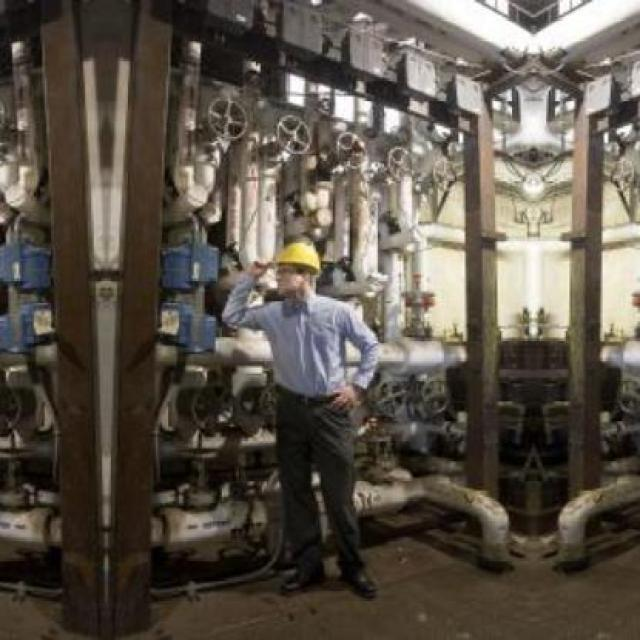helmet: (268, 235, 323, 300)
